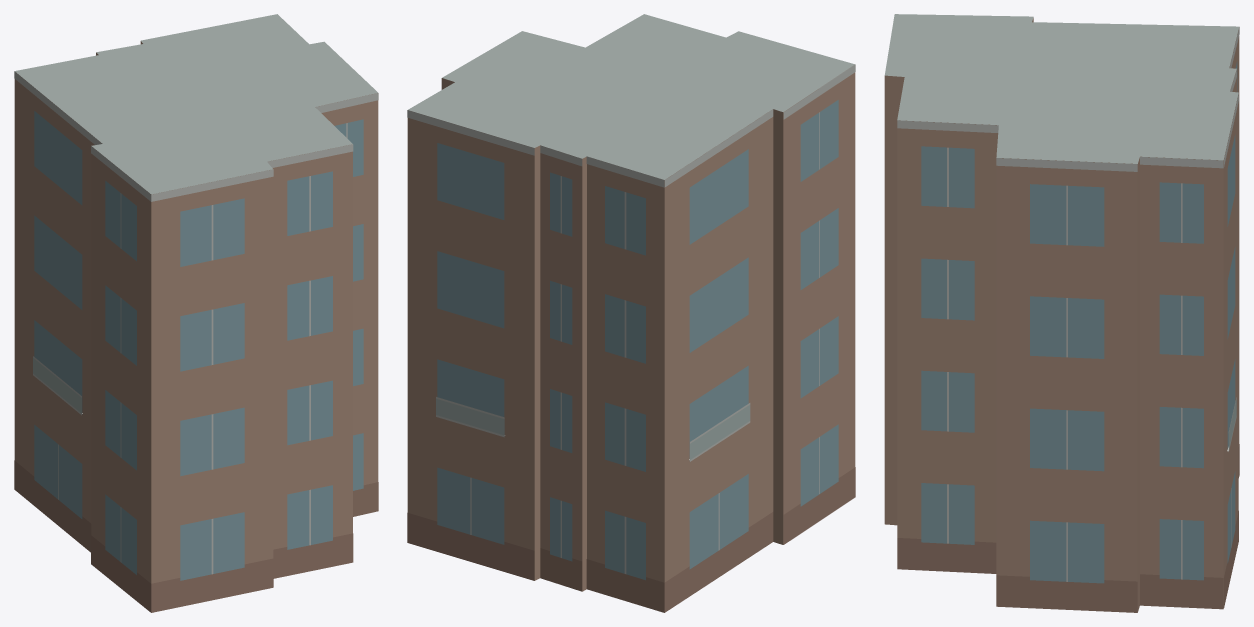
File: survey-upis-32473944.glb
3 renders of one model, left to right at view 1: azimuth 30°, elevation 25°; view 2: azimuth 150°, elevation 25°; view 3: azimuth 270°, elevation 25°, orthographic. The views are drawn at different scales.
Parts seen in each view (by area): view 1: survey-upis-32473944.tmp; view 2: survey-upis-32473944.tmp; view 3: survey-upis-32473944.tmp.
Part boxes in pixels (bbox=[...]): survey-upis-32473944.tmp: bbox=[14, 14, 378, 612]; survey-upis-32473944.tmp: bbox=[407, 14, 855, 612]; survey-upis-32473944.tmp: bbox=[884, 14, 1239, 612].
Bounding box in the file's own units: 9.83 × 13.7 × 9.82.
